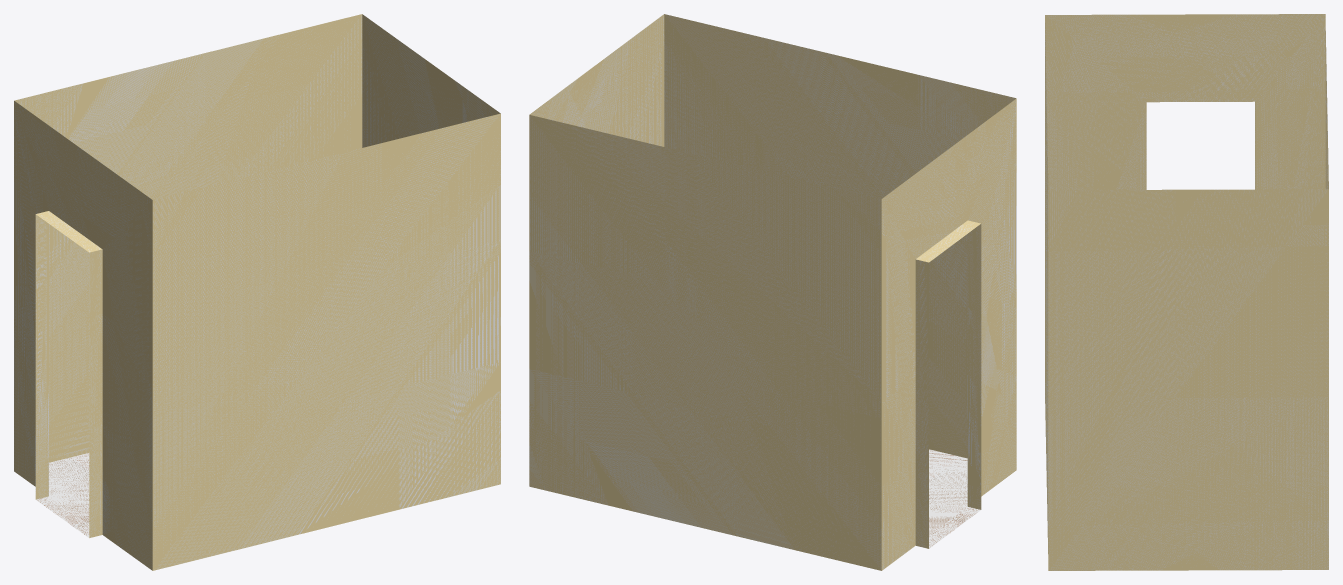
Rendered from CUA004.obj.
3 views of the same model, side by side, from view 1: azimuth 30°, elevation 25°; view 2: azimuth 150°, elevation 25°; view 3: azimuth 270°, elevation 25° (orthographic). The views are drawn at different scales.
Visible parts, largest first — view 1: Mesh1 CUA004 Model; view 2: Mesh1 CUA004 Model; view 3: Mesh1 CUA004 Model.
Part boxes in pixels (x1=…): Mesh1 CUA004 Model: x1=14, y1=14, x2=500, y2=570; Mesh1 CUA004 Model: x1=529, y1=14, x2=1016, y2=570; Mesh1 CUA004 Model: x1=1045, y1=14, x2=1328, y2=570.
Size of the model in its own units: 3.09 by 3 by 2.03.
3 materials, 1 textured.
